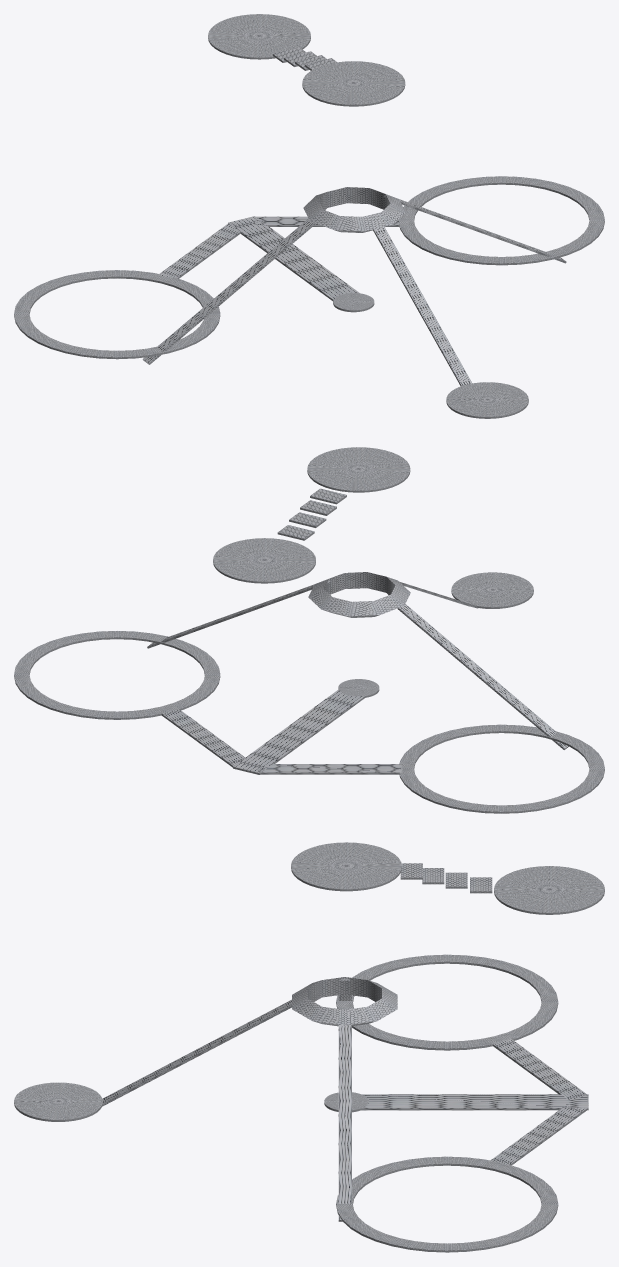
File: Level5.FBX
3 views of the same model, one above another, from view 1: azimuth 30°, elevation 25°; view 2: azimuth 150°, elevation 25°; view 3: azimuth 270°, elevation 25° (orthographic). The views are drawn at different scales.
Visible parts, largest first — view 1: Zylinder_4; view 2: Zylinder_4; view 3: Zylinder_4.
Boxes of the visible parts, left/top/right/bottom form: Zylinder_4: left=14, top=14, right=604, bottom=418; Zylinder_4: left=14, top=447, right=604, bottom=813; Zylinder_4: left=14, top=842, right=604, bottom=1252.
Size of the model in its own units: 1240 by 1047 by 481.
